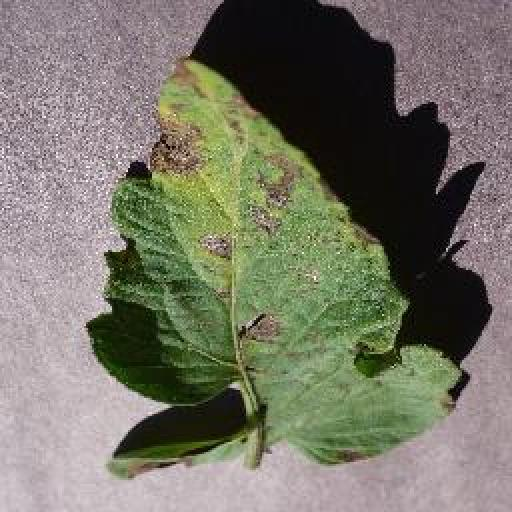Early Blight: (87, 60, 464, 480)
